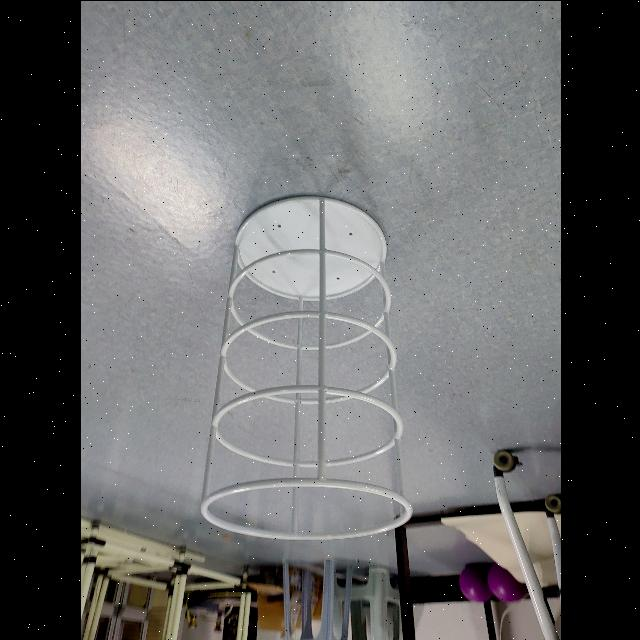S: (197, 190, 416, 542)
